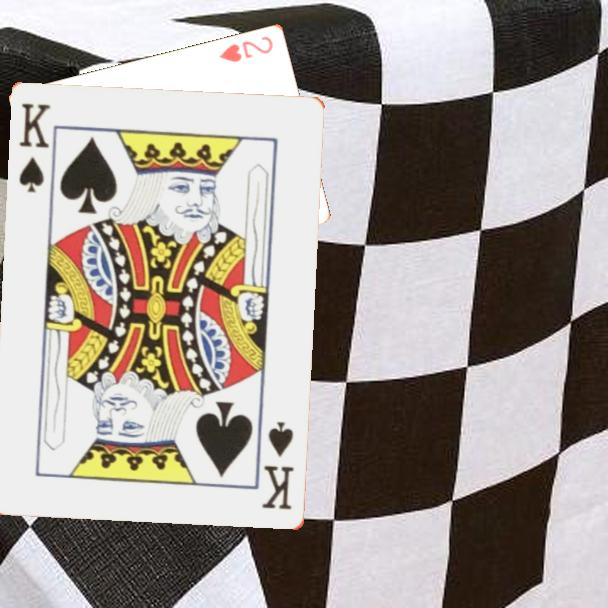h02: (216, 32, 276, 65)
s13: (16, 100, 54, 196), (259, 418, 297, 513)
